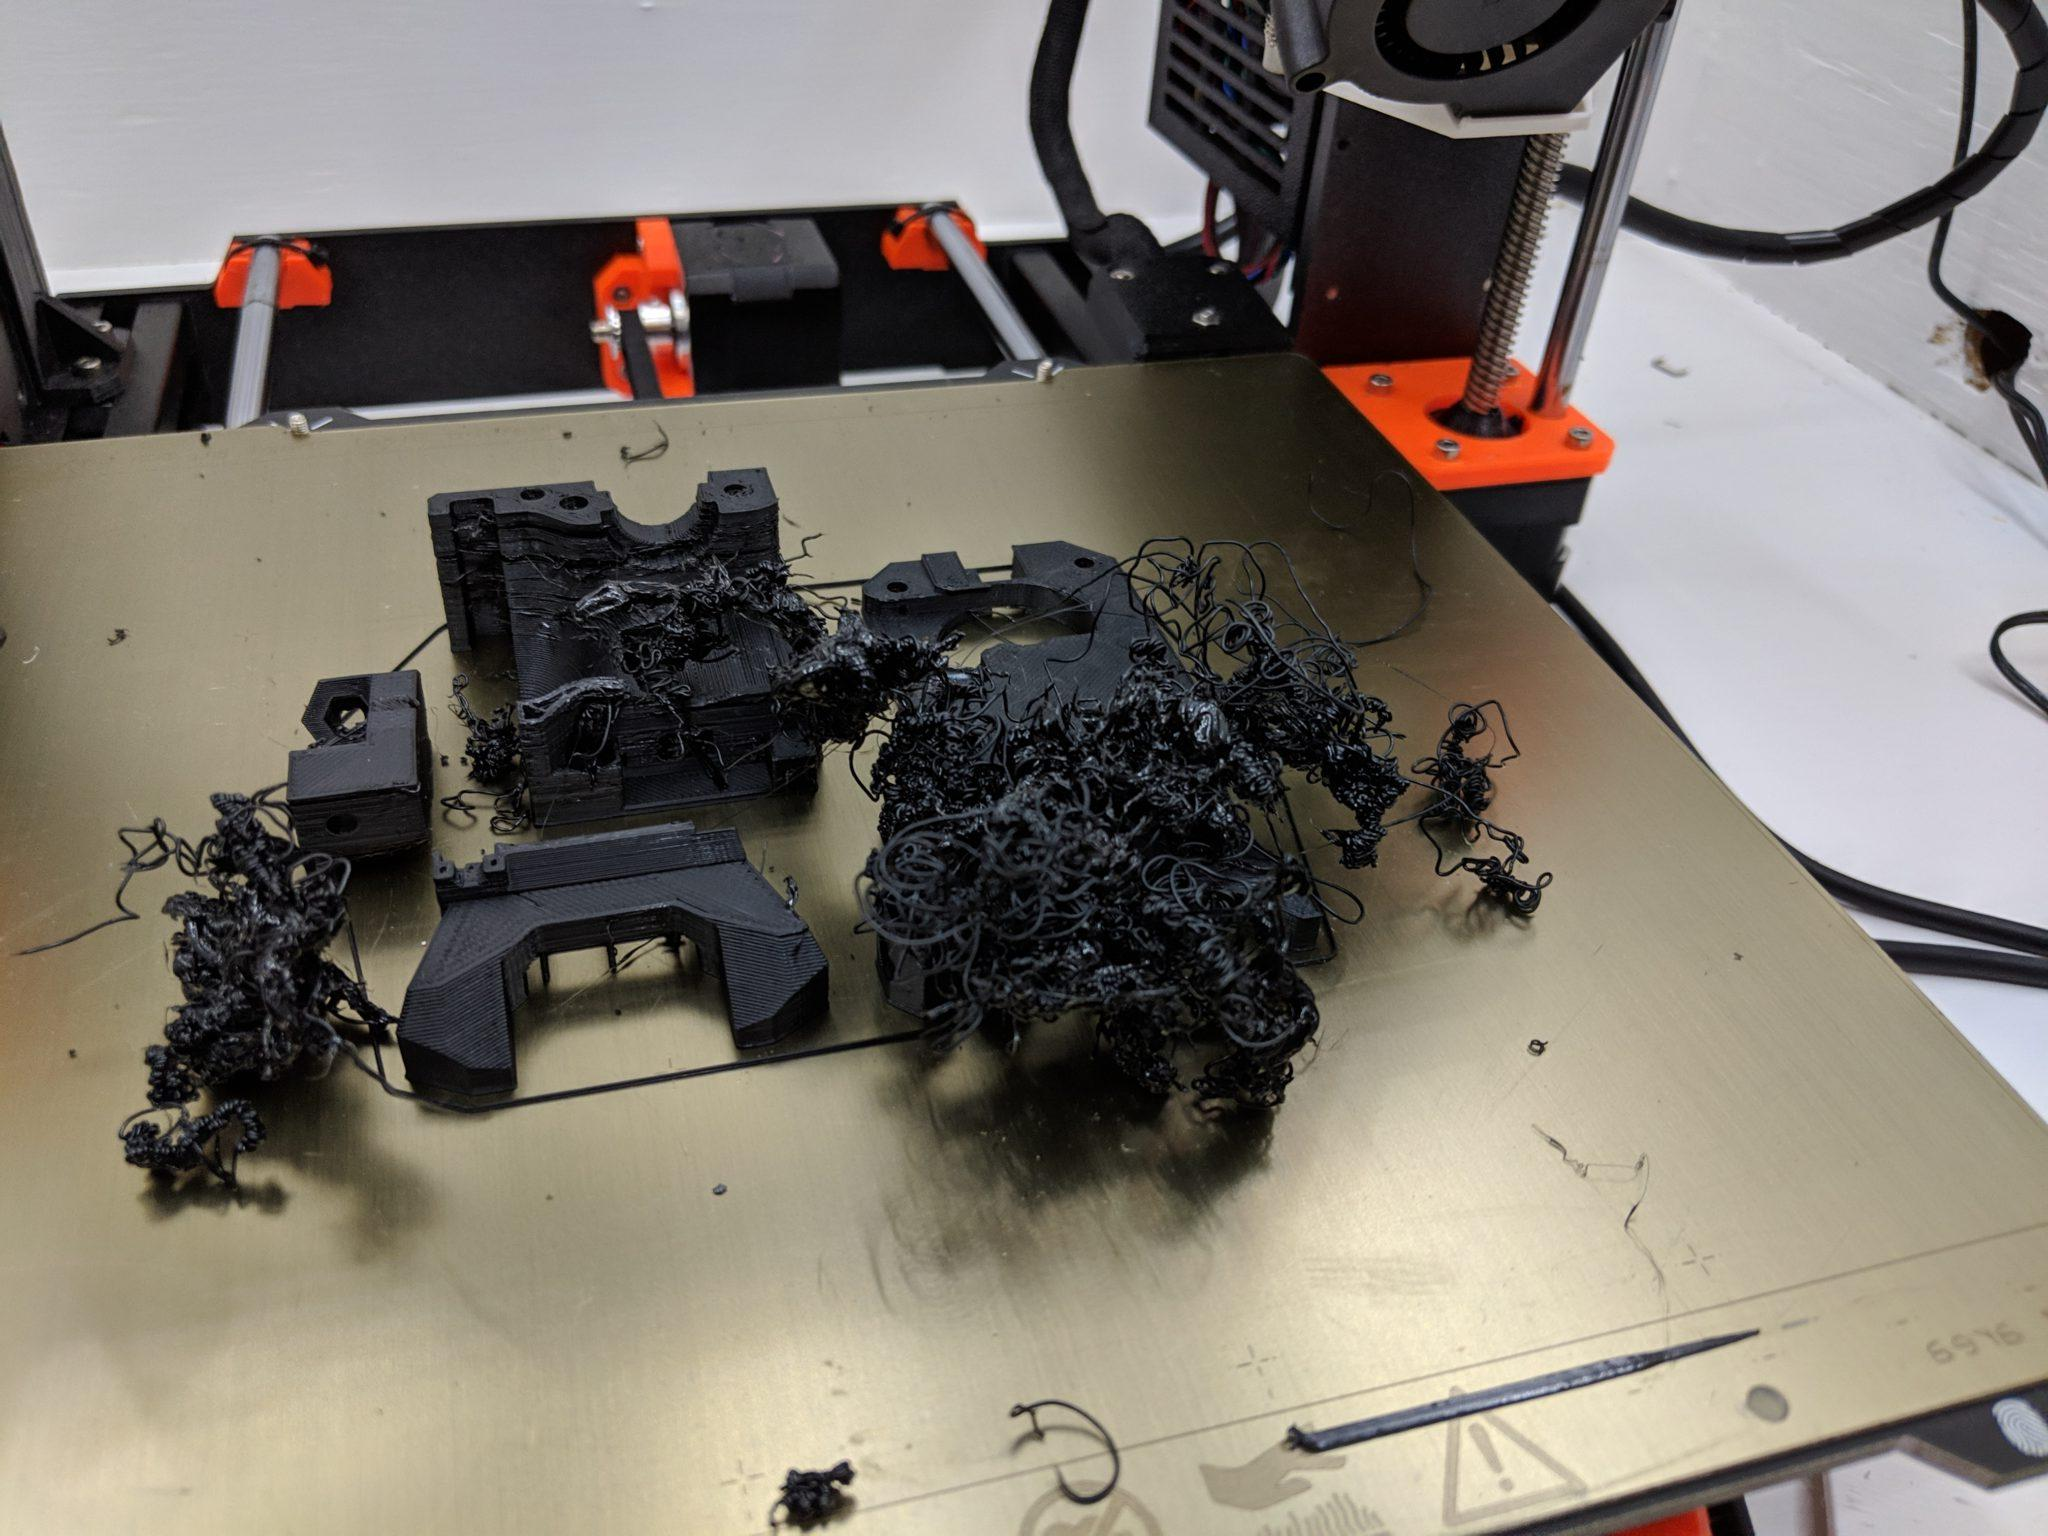Printing-Artifact: (856, 557, 1545, 1139), (77, 781, 389, 1225), (568, 523, 834, 700)
